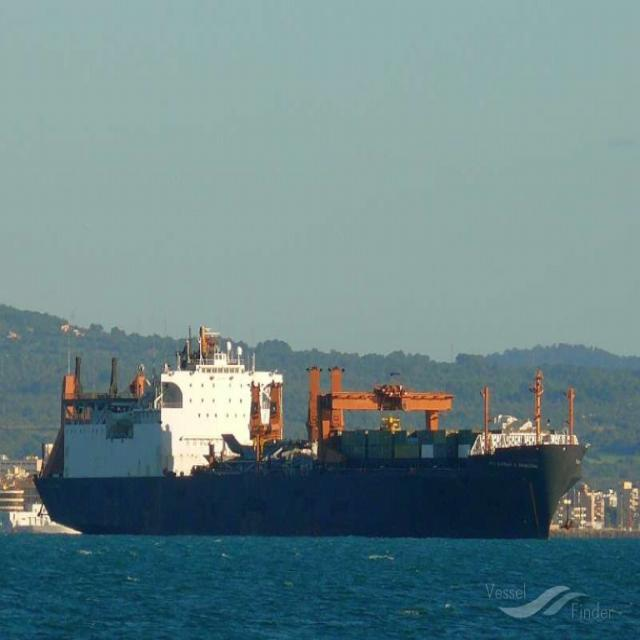OCR: (484, 452, 544, 470)
